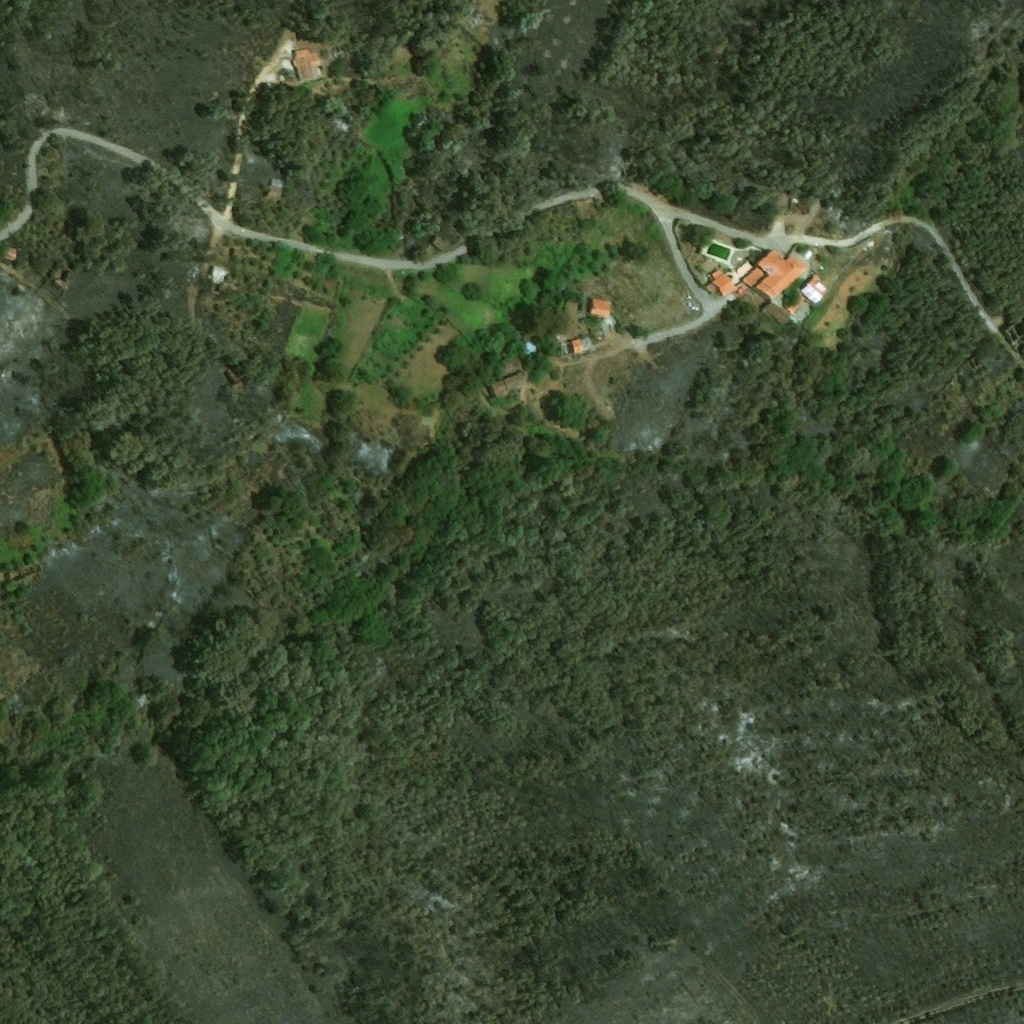0 no-damage: (756, 250, 810, 301), (727, 283, 767, 310), (294, 48, 322, 80), (802, 275, 829, 304), (712, 269, 737, 296), (766, 301, 790, 323), (504, 372, 528, 394), (742, 268, 765, 288), (572, 336, 594, 354), (592, 299, 613, 315), (493, 380, 509, 398), (566, 299, 580, 314), (790, 199, 809, 210), (593, 328, 606, 343), (525, 341, 538, 356)
2 major-damage: (270, 187, 285, 198), (271, 178, 285, 188)
3 destroyed: (212, 264, 233, 284), (776, 216, 786, 227), (772, 224, 780, 231)
4 un-classified: (602, 317, 620, 332), (280, 60, 293, 73)
